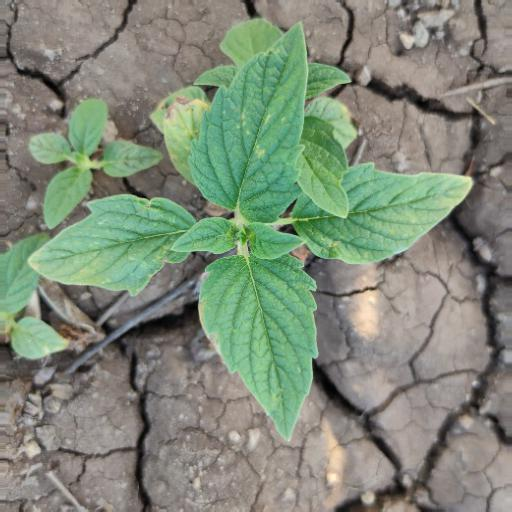crop: (23, 14, 475, 444), (26, 94, 162, 228)
